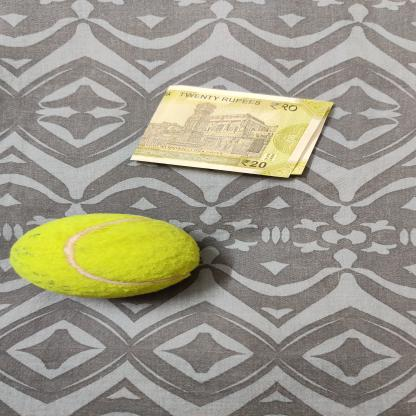New20Back: (129, 85, 334, 178)
